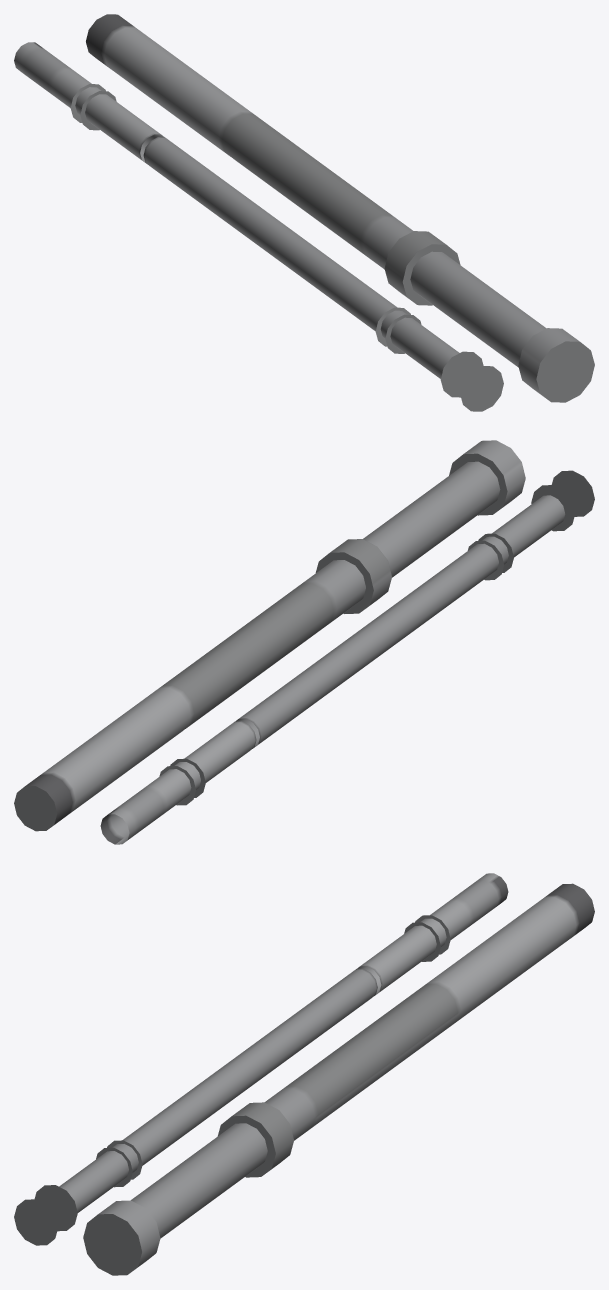
The picture shows the model from 3 angles, top to bottom: view 1: azimuth 30°, elevation 25°; view 2: azimuth 150°, elevation 25°; view 3: azimuth 330°, elevation 25°; orthographic projection.
Bounding box in the file's own units: 0.3986 × 0.1791 × 2.41.
